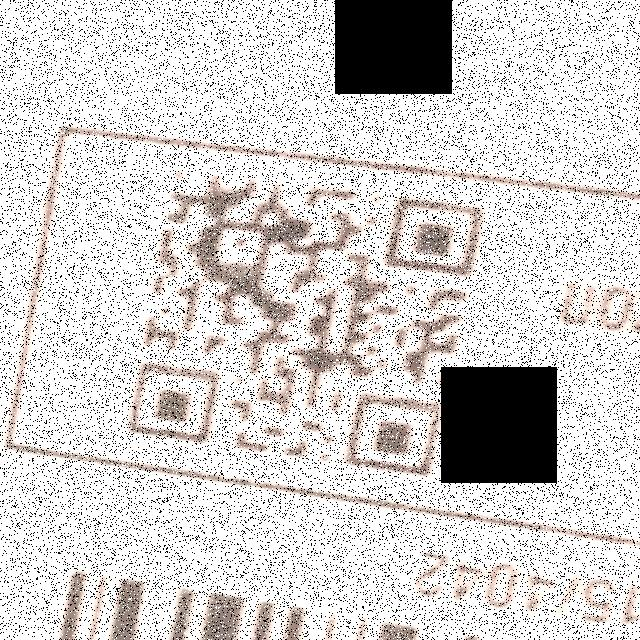QR_CODE: (116, 147, 495, 485)
